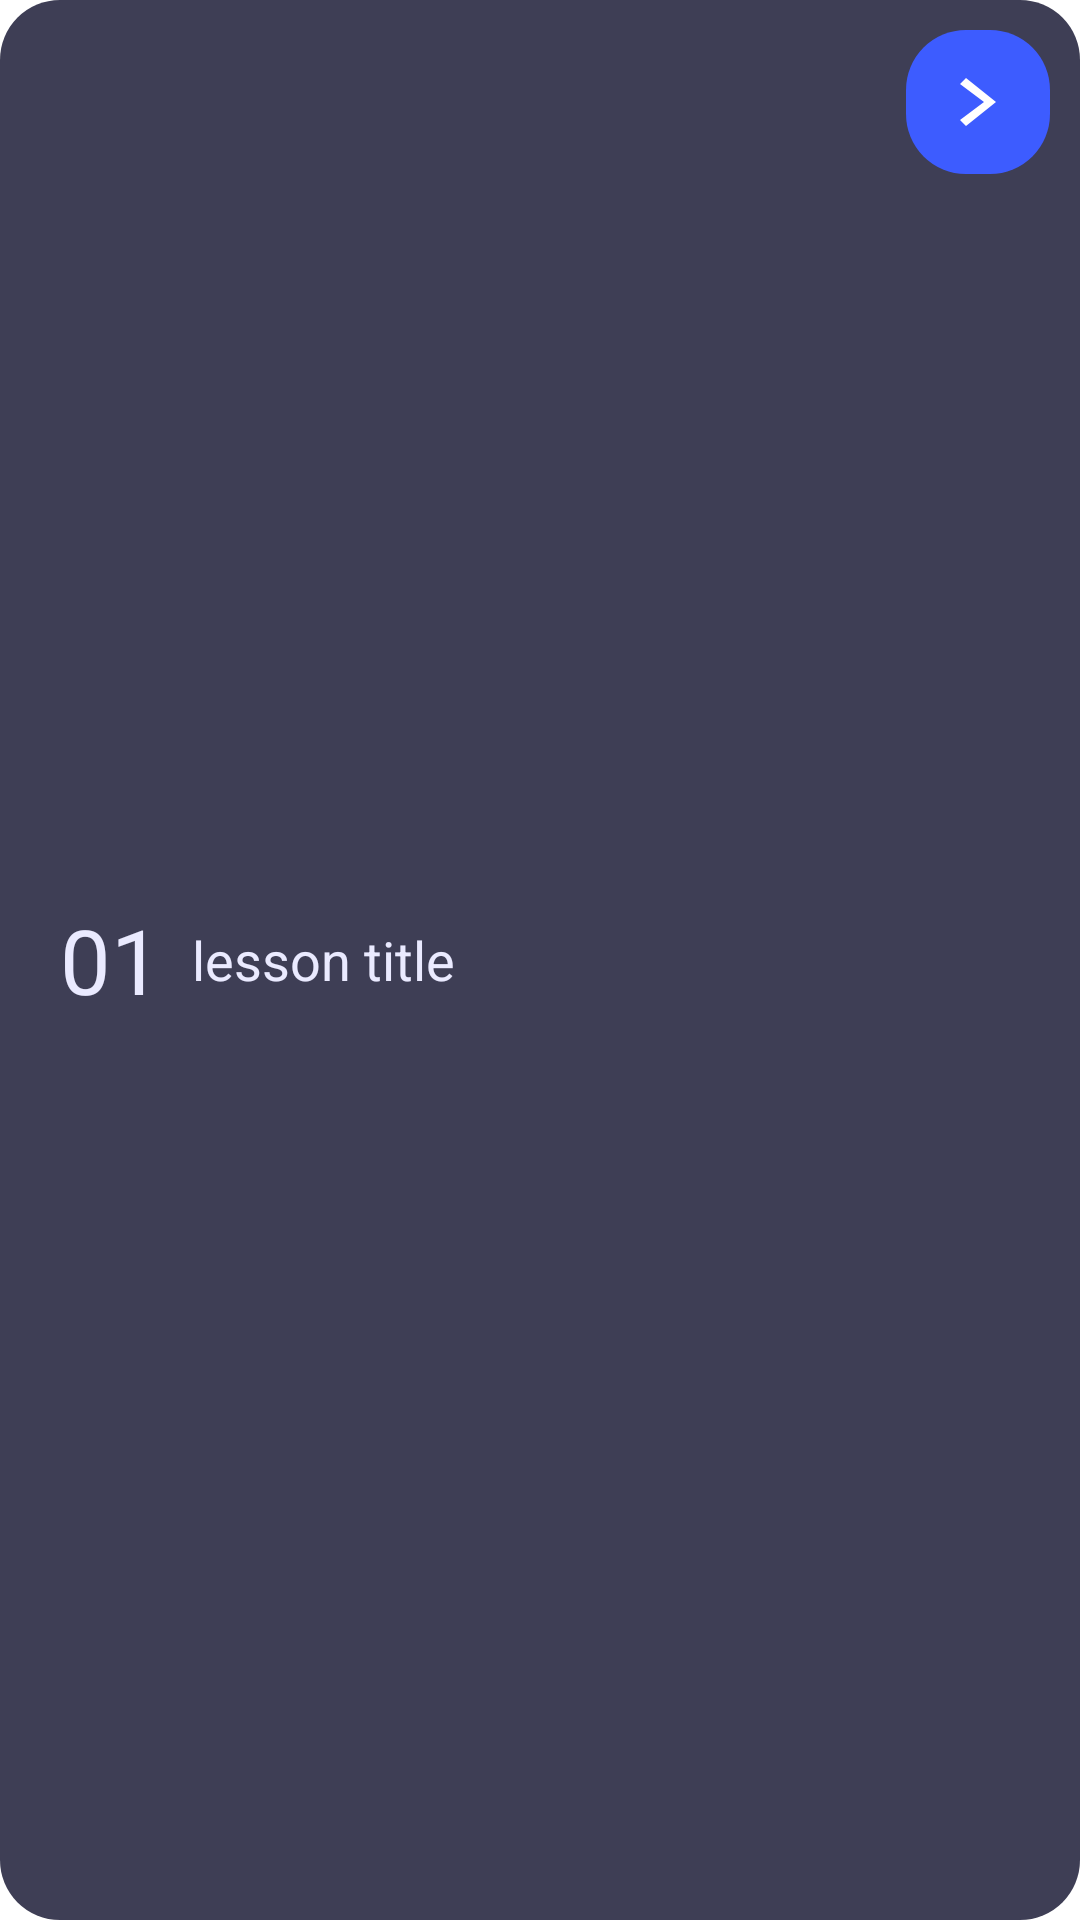

Icon bounding boxes for this 1080w x 1920h phone screenshot, format (x1, y1, x2, y2):
aa arrow right: (906, 30, 1050, 174)
